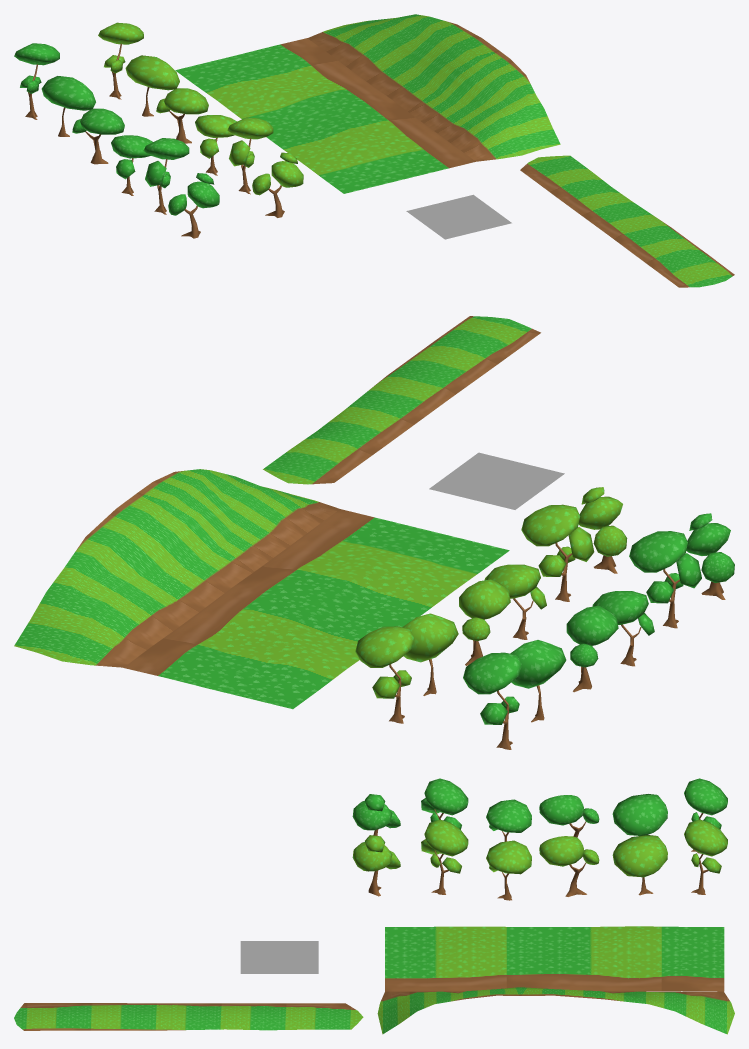
File: Trees_01.fbx
The picture shows the model from 3 angles, top to bottom: view 1: azimuth 30°, elevation 25°; view 2: azimuth 150°, elevation 25°; view 3: azimuth 270°, elevation 25°; orthographic projection. The views are drawn at different scales.
Parts seen in each view (by area): view 1: pPlane1, polySurface1, pasted__grass30, pPlane2, Tree_B_5, Tree_A_5, Tree_B_2, Tree_A_2, Tree_A_4, Tree_B_4, Tree_A_7, Tree_B_7 (+4 smaller); view 2: pPlane1, polySurface1, pasted__grass30, pPlane2, Tree_A_2, Tree_B_2, Tree_B_6, Tree_A_6, Tree_B_4, Tree_A_4, Tree_A_7, Tree_B_7 (+4 smaller); view 3: pPlane1, pasted__grass30, polySurface1, pPlane2, Tree_B_5, Tree_B_2, Tree_A_5, Tree_B_6, Tree_B_7, Tree_A_2, Tree_B_1, Tree_A_7 (+4 smaller).
Boxes of the visible parts, <box> form: pPlane1: <box>175,38,475,193</box>; polySurface1: <box>307,14,560,161</box>; pasted__grass30: <box>520,155,734,287</box>; pPlane2: <box>406,194,511,239</box>; Tree_B_5: <box>125,55,179,116</box>; Tree_A_5: <box>41,76,95,136</box>; Tree_B_2: <box>227,117,273,194</box>; Tree_A_2: <box>143,138,189,214</box>; Tree_A_4: <box>168,173,219,238</box>; Tree_B_4: <box>252,152,303,217</box>; Tree_A_7: <box>72,108,124,164</box>; Tree_B_7: <box>156,88,208,143</box>; pPlane1: <box>123,509,509,709</box>; polySurface1: <box>14,469,339,667</box>; pasted__grass30: <box>263,316,540,484</box>; pPlane2: <box>429,452,564,509</box>; Tree_A_2: <box>629,531,701,628</box>; Tree_B_2: <box>521,504,594,601</box>; Tree_B_6: <box>355,626,413,723</box>; Tree_A_6: <box>463,652,521,749</box>; Tree_B_4: <box>578,487,627,573</box>; Tree_A_4: <box>686,513,734,599</box>; Tree_A_7: <box>566,605,618,692</box>; Tree_B_7: <box>459,579,510,665</box>; pPlane1: <box>385,926,724,991</box>; pasted__grass30: <box>14,1003,363,1030</box>; polySurface1: <box>377,987,734,1034</box>; pPlane2: <box>240,941,318,973</box>; Tree_B_5: <box>612,835,667,895</box>; Tree_B_2: <box>421,819,468,894</box>; Tree_A_5: <box>612,794,667,835</box>; Tree_B_6: <box>684,819,727,894</box>; Tree_B_7: <box>539,836,599,896</box>; Tree_A_2: <box>421,778,468,853</box>; Tree_B_1: <box>486,840,531,900</box>; Tree_A_7: <box>539,795,599,837</box>.
Size of the model in its own units: 588 by 107 by 924.
